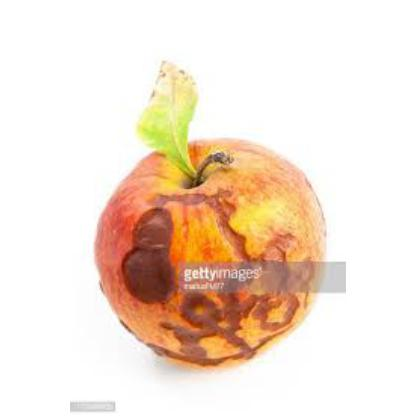apple: (106, 136, 317, 354)
